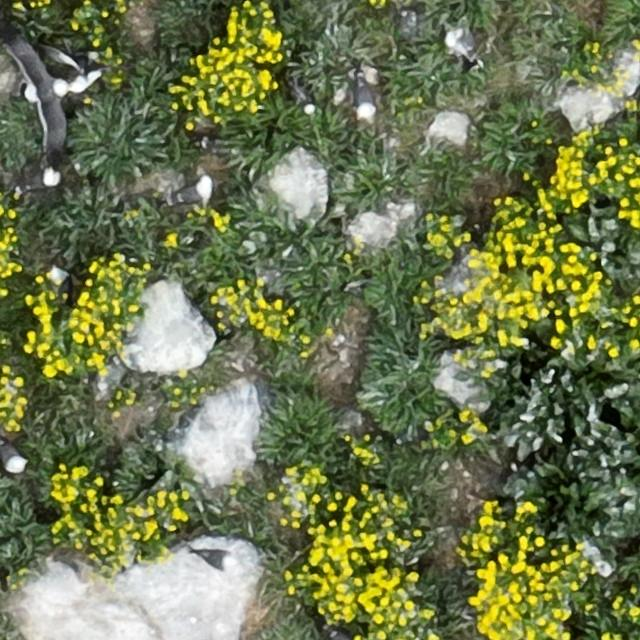F: (21, 51, 76, 149)
umineko: (446, 27, 479, 62), (172, 179, 212, 204), (49, 266, 73, 305), (356, 79, 376, 118), (1, 440, 26, 470), (20, 169, 57, 188), (197, 549, 230, 568), (329, 628, 355, 640)
